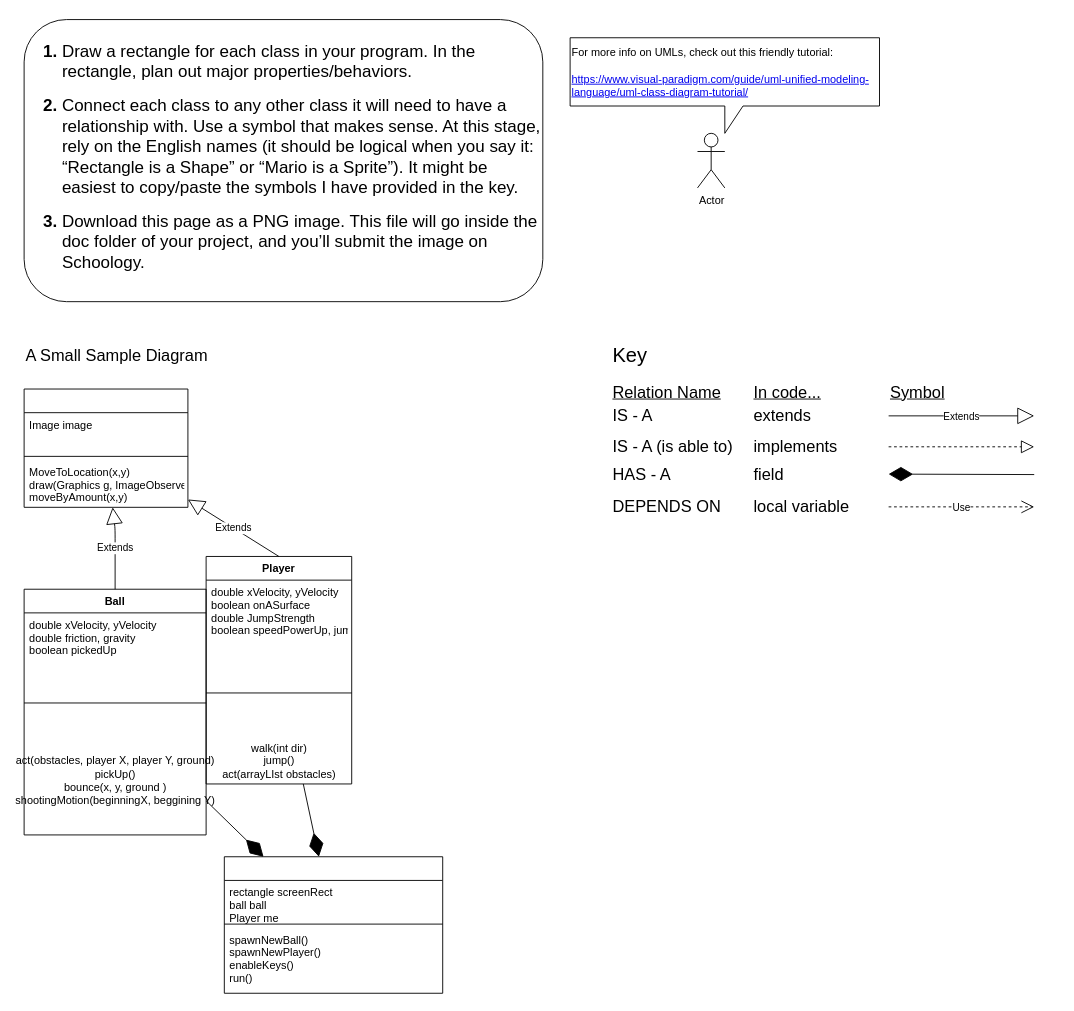
Image size: 1074x1011. Some labels were removed from this diagram. Each missing label, with the box of its shape:
Game Panel: (223, 856, 443, 993)
Moving Image: (23, 388, 188, 507)
